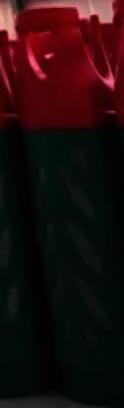cylinder: (1, 1, 124, 408)
